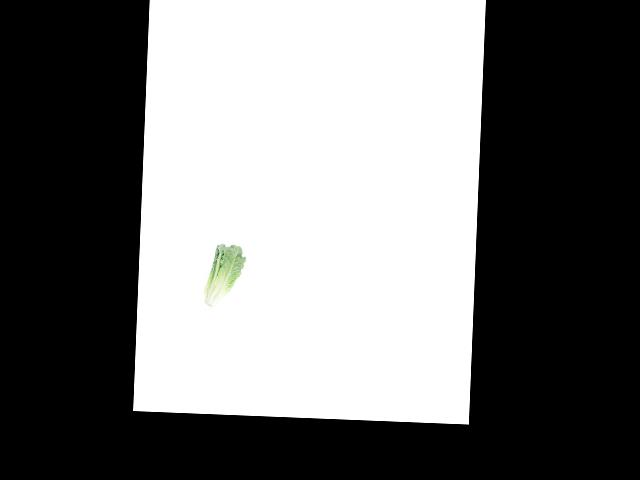lettuce: (201, 241, 245, 311)
